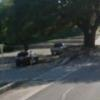cars: (15, 51, 40, 67), (49, 42, 67, 54)
